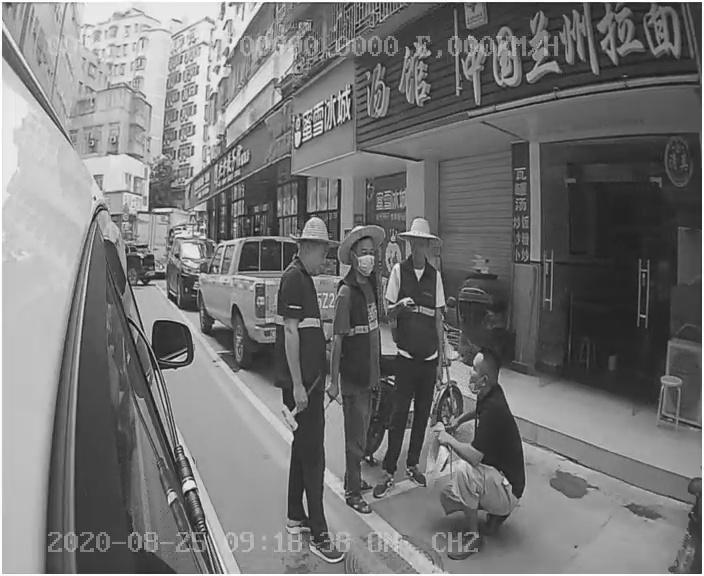person: (266, 224, 355, 542), (429, 350, 545, 546)
